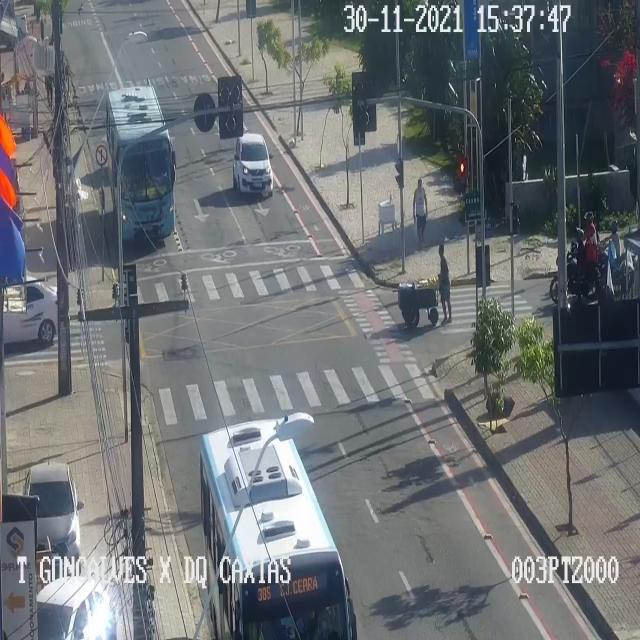Bus: (106, 87, 180, 242)
Car: (200, 419, 358, 639), (26, 466, 84, 562), (36, 574, 118, 639), (2, 277, 60, 345), (235, 130, 273, 197)
Motorcycle: (550, 225, 606, 305)
